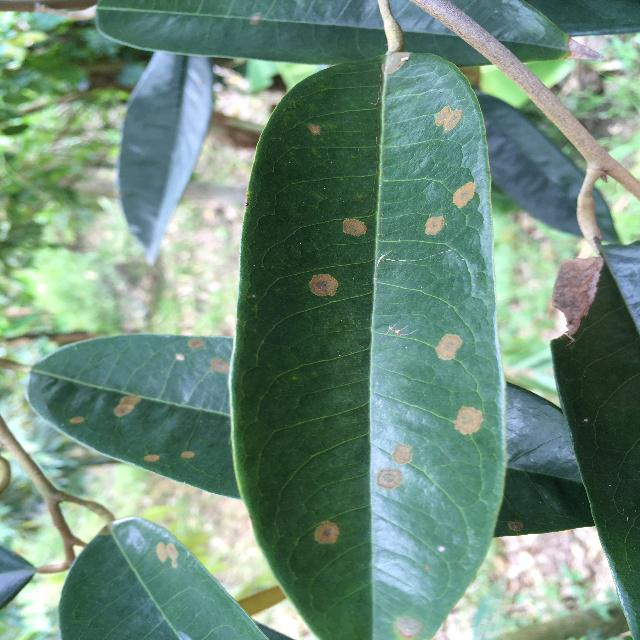Algal Leaf Spot: (223, 39, 520, 639)
